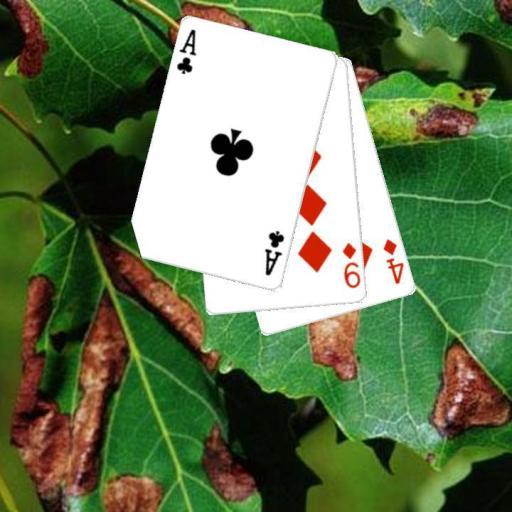4D: (381, 236, 406, 286)
9D: (339, 240, 361, 290)
AC: (174, 26, 199, 77), (262, 228, 287, 278)
